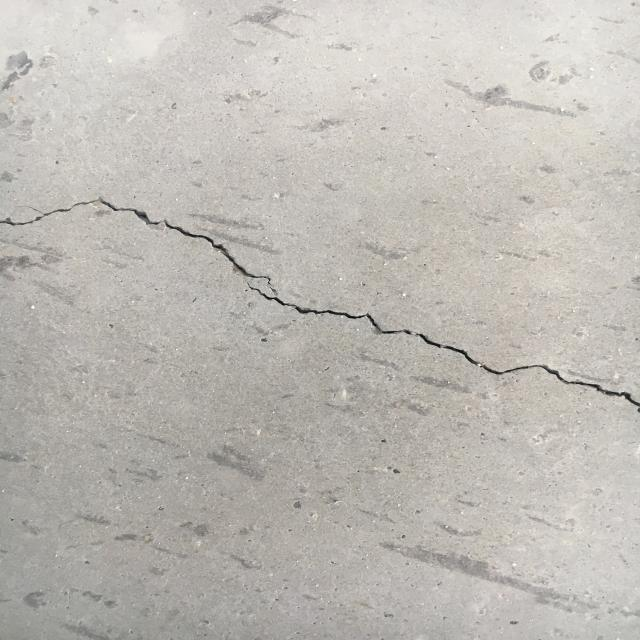SurfaceCrack: (0, 169, 639, 430)
